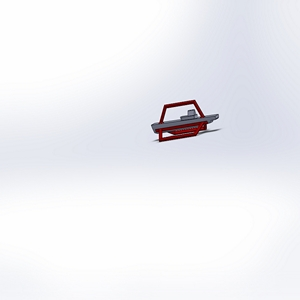submarine: (148, 90, 232, 165)
